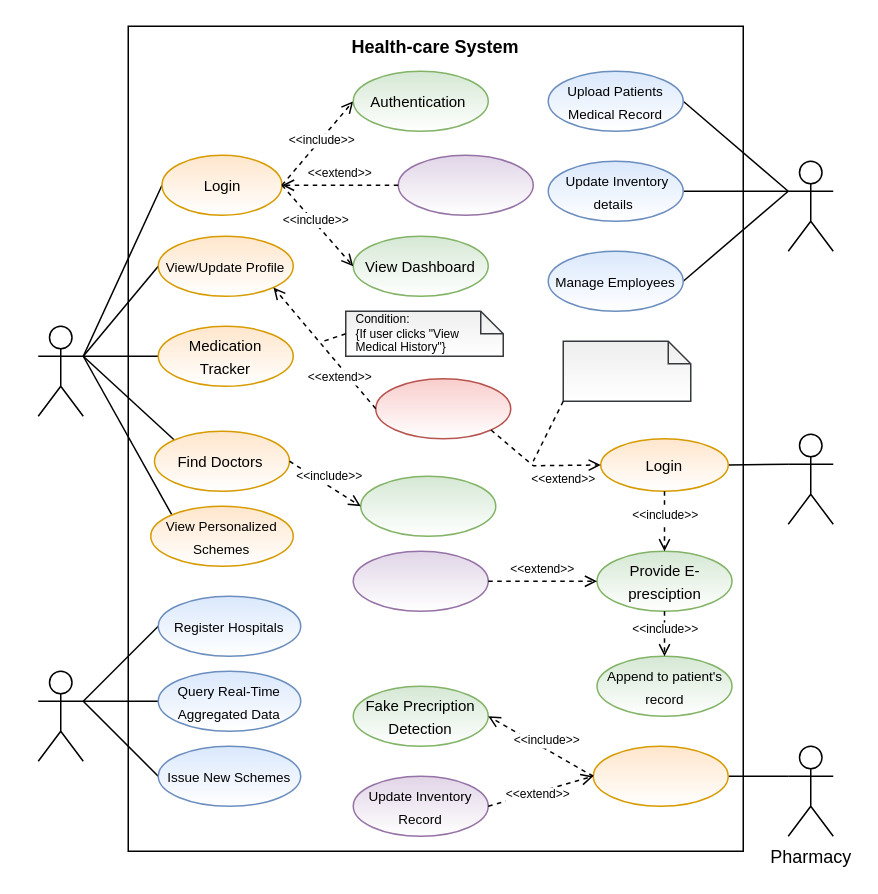
The diagram is 878 pixels wide and 894 high, and some of its shapes have lost their labels. The shapes that lost their labels are listed below. From the top down, each one's centre as x and y in pixels, then its label:
At (x=465, y=184): "Authentication Failure".
At (x=810, y=205): "Hospital".
At (x=60, y=370): "Patient".
At (x=626, y=370): "Condition: {If patient grants permission to view}".
At (x=442, y=408): "View Medical History".
At (x=810, y=478): "Doctor".
At (x=427, y=505): "Book an appointment".
At (x=420, y=580): "Diseases Prediction using ML".
At (x=60, y=715): "Health Authority".
At (x=660, y=775): "Give Medicine".
